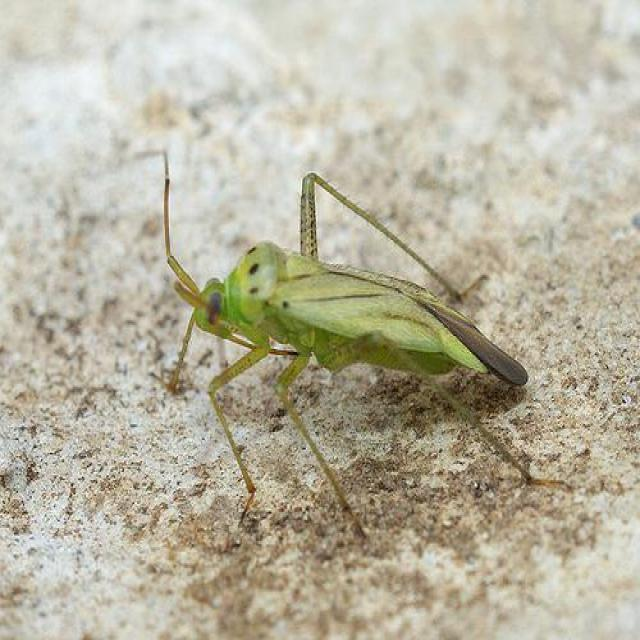Miridae-Adult-: (135, 131, 538, 533)
